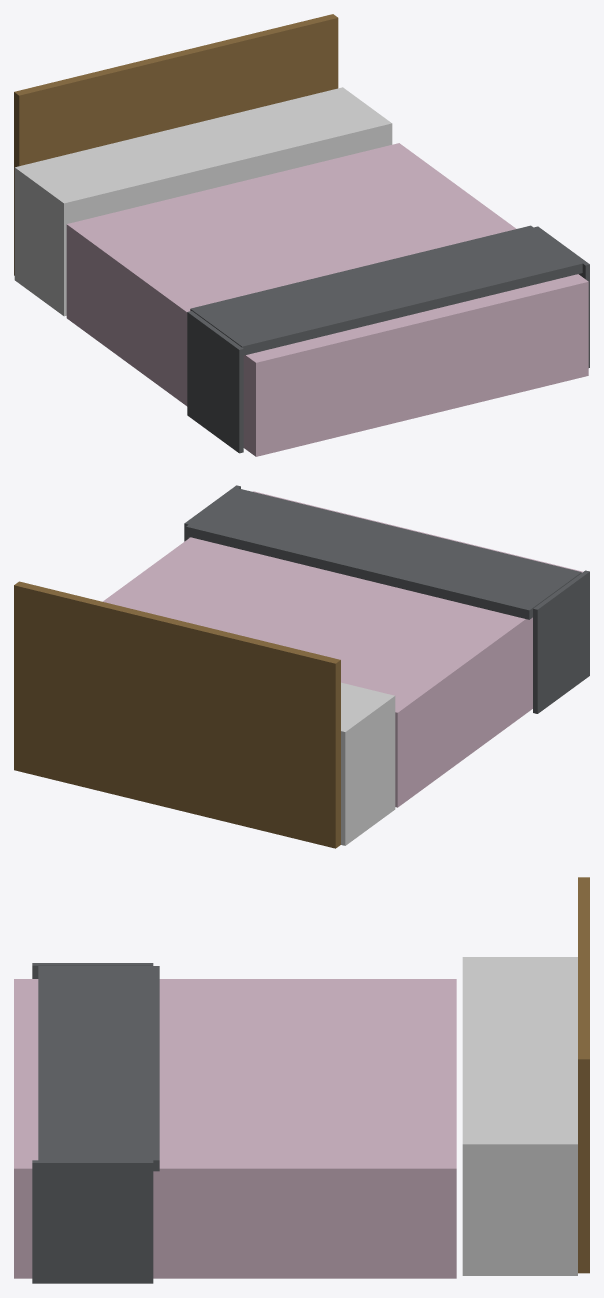
Rendered from Glorious Sango.glb.
The picture shows the model from 3 angles, top to bottom: view 1: azimuth 30°, elevation 25°; view 2: azimuth 150°, elevation 25°; view 3: azimuth 270°, elevation 25°; orthographic projection. The views are drawn at different scales.
Visible parts, largest first — view 1: Mesh_Mesh_head_geo.001_lambert2SG.001; view 2: Mesh_Mesh_head_geo.001_lambert2SG.001; view 3: Mesh_Mesh_head_geo.001_lambert2SG.001.
Part boxes in pixels (bbox=[...]): Mesh_Mesh_head_geo.001_lambert2SG.001: bbox=[14, 14, 589, 456]; Mesh_Mesh_head_geo.001_lambert2SG.001: bbox=[14, 485, 589, 848]; Mesh_Mesh_head_geo.001_lambert2SG.001: bbox=[14, 877, 589, 1283].
Bounding box in the file's own units: 0.078 × 0.039 × 0.095.
